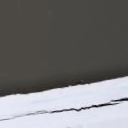crackTip: (1, 97, 128, 126)
